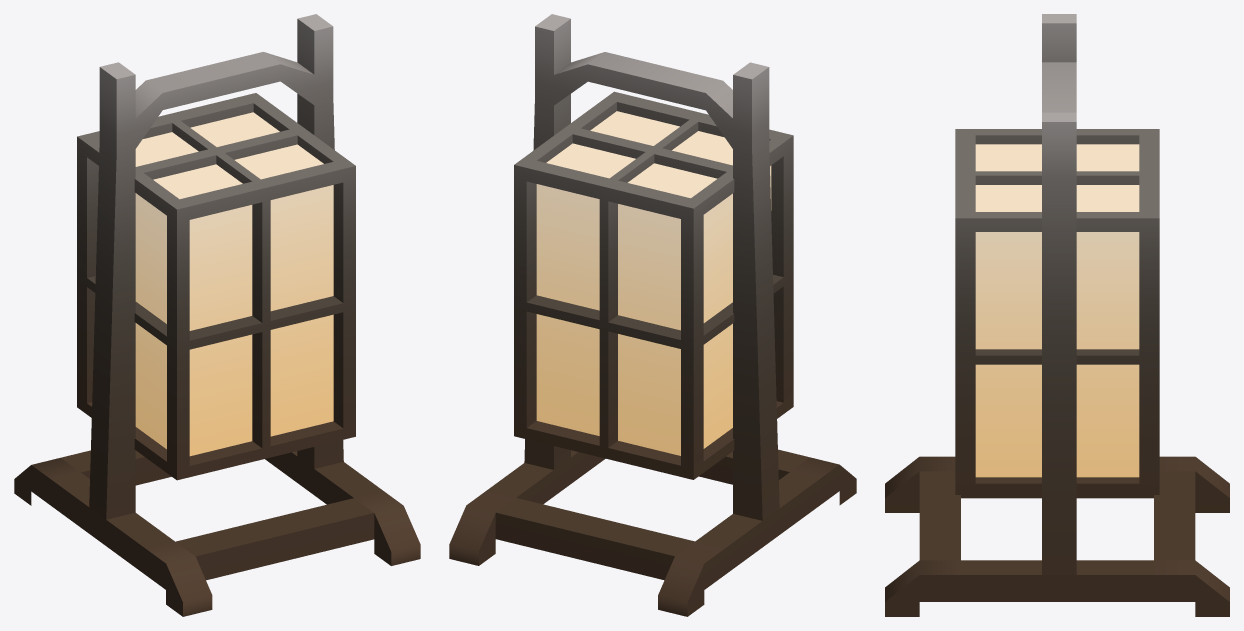
The picture shows the model from 3 angles, left to right: view 1: azimuth 30°, elevation 25°; view 2: azimuth 150°, elevation 25°; view 3: azimuth 270°, elevation 25°; orthographic projection. The views are drawn at different scales.
Parts seen in each view (by area): view 1: Frame, LanternPaper; view 2: Frame, LanternPaper; view 3: Frame, LanternPaper.
Boxes of the visible parts, <box> form: Frame: <box>14,14,420,616</box>; LanternPaper: <box>135,112,333,456</box>; Frame: <box>449,14,856,616</box>; LanternPaper: <box>536,111,771,455</box>; Frame: <box>885,14,1229,616</box>; LanternPaper: <box>975,144,1139,477</box>.
Size of the model in its own units: 55.57 by 107 by 68.32.
2 materials, 2 textured.
